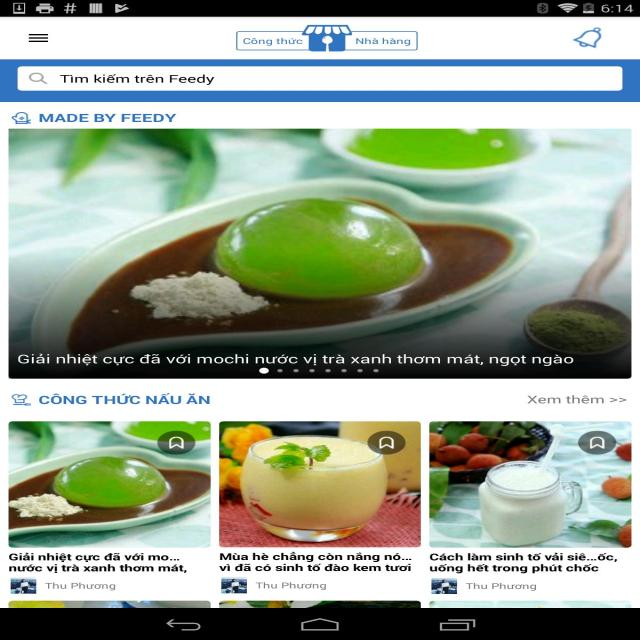button: (569, 25, 607, 49), (24, 68, 50, 88), (21, 31, 53, 46)
field: (19, 68, 622, 90)
heading: (36, 394, 210, 406), (36, 112, 178, 125)
image: (10, 130, 630, 377), (6, 422, 209, 548), (430, 422, 632, 548), (221, 422, 421, 548), (230, 22, 423, 54), (429, 578, 460, 595), (218, 578, 248, 592), (10, 578, 34, 594)
link: (526, 394, 630, 406)
text: (14, 351, 579, 367), (429, 551, 623, 574), (217, 552, 415, 574), (6, 551, 188, 574), (55, 72, 218, 86), (464, 580, 539, 594), (43, 580, 119, 592), (254, 581, 332, 592)
